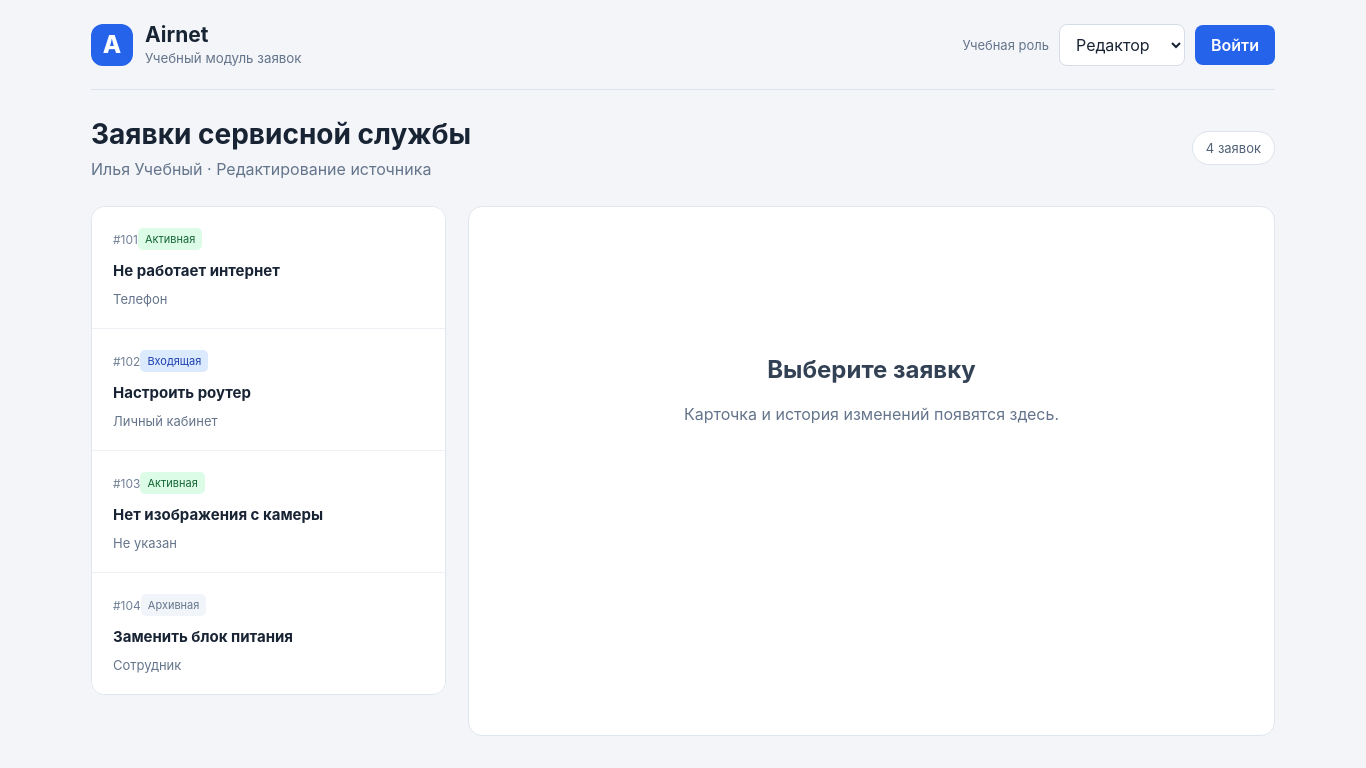
Test case: Карточка заявки › поздний ответ предыдущей заявки не подменяет выбранную (исходная ошибка 1)
Click the button "#101 Активная Не работает интернет Телефон" at (268, 268), box [92, 207, 445, 329]
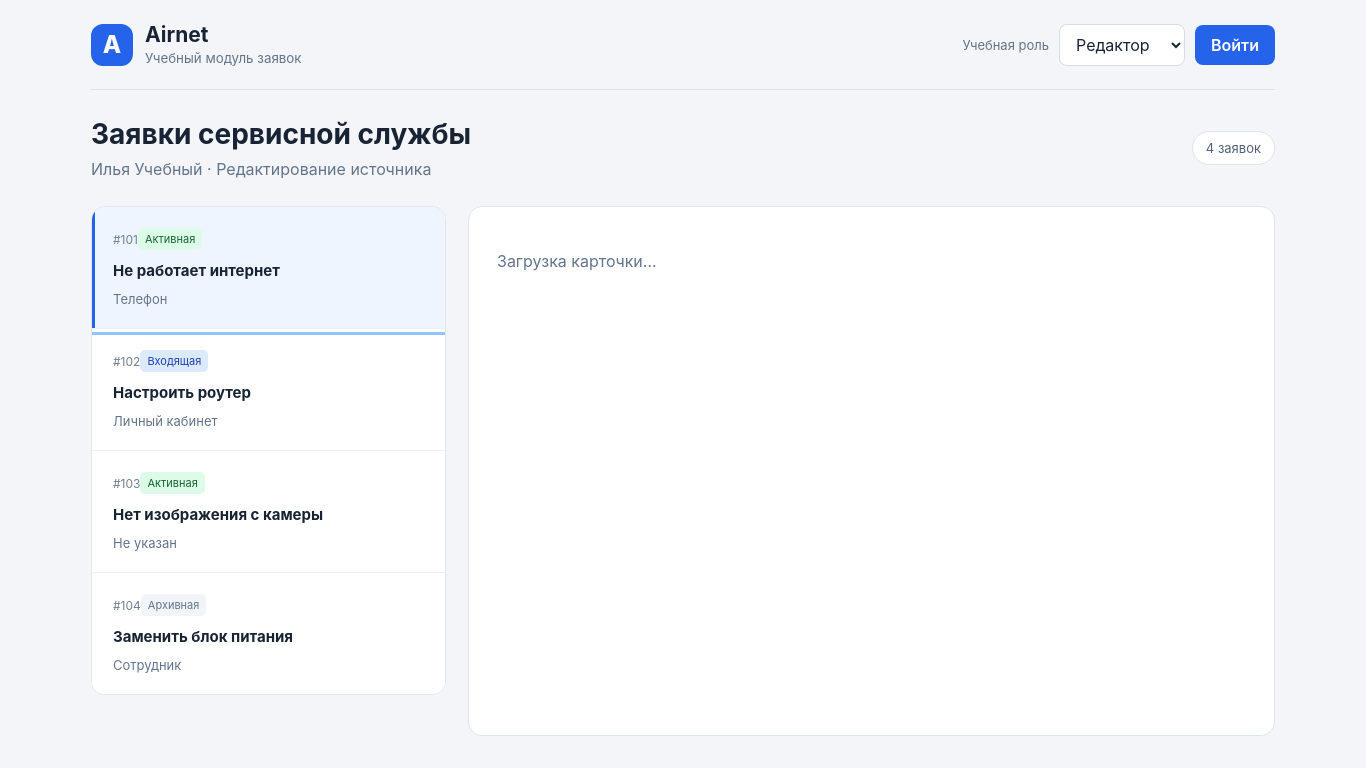
Click the button "#102 Входящая Настроить роутер Личный кабинет" at (174, 361), box [92, 329, 445, 451]
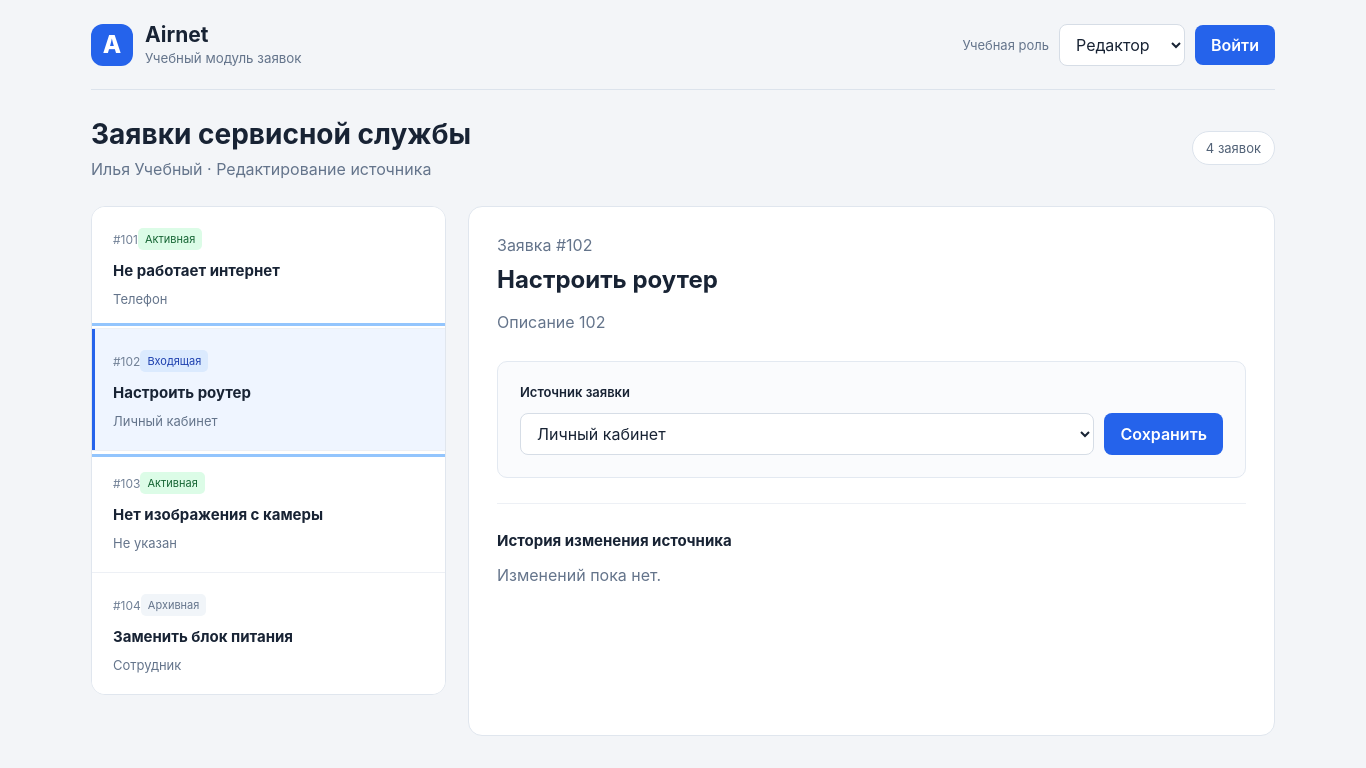
Now the heading "Настроить роутер" is shown, box [497, 265, 718, 294]
Now the dropdown labelled "Источник заявки" shows "Личный кабинет", box [520, 413, 1094, 455]
